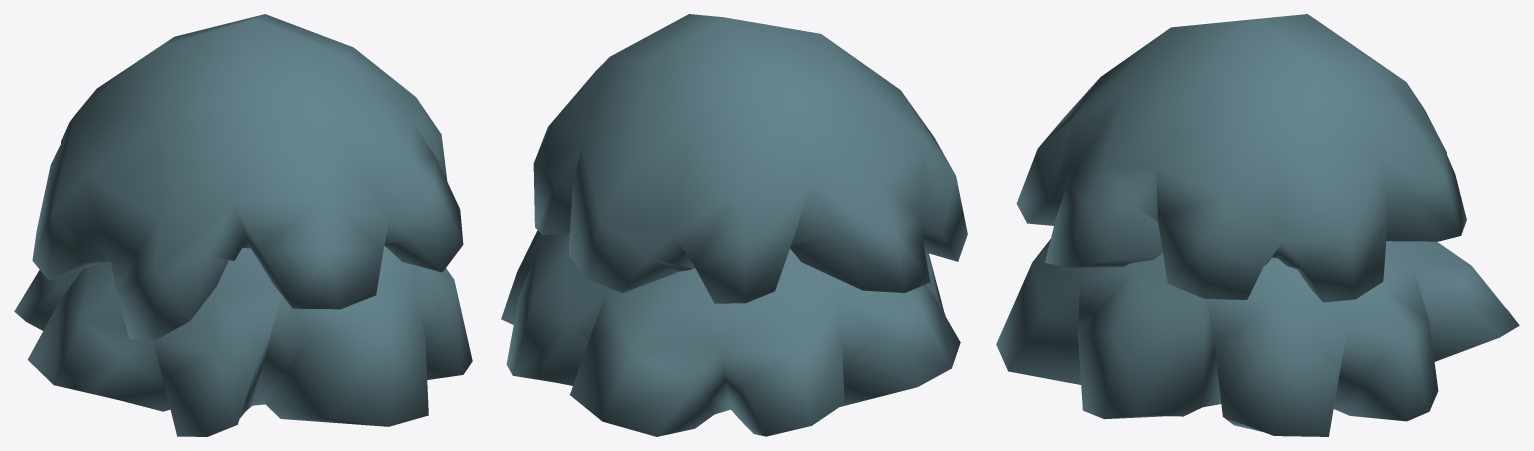
File: Bush_B_02_LOD2.gltf
The picture shows the model from 3 angles, left to right: view 1: azimuth 30°, elevation 25°; view 2: azimuth 150°, elevation 25°; view 3: azimuth 270°, elevation 25°; orthographic projection.
Visible parts, largest first — view 1: Bush_B_02_LOD2_Cube.767; view 2: Bush_B_02_LOD2_Cube.767; view 3: Bush_B_02_LOD2_Cube.767.
Part boxes in pixels (left/top/right/bottom): Bush_B_02_LOD2_Cube.767: left=14, top=14, right=472, bottom=436; Bush_B_02_LOD2_Cube.767: left=501, top=14, right=967, bottom=436; Bush_B_02_LOD2_Cube.767: left=996, top=14, right=1519, bottom=436.
Size of the model in its own units: 3.91 by 3.3 by 4.28.
1 material, 1 textured.
